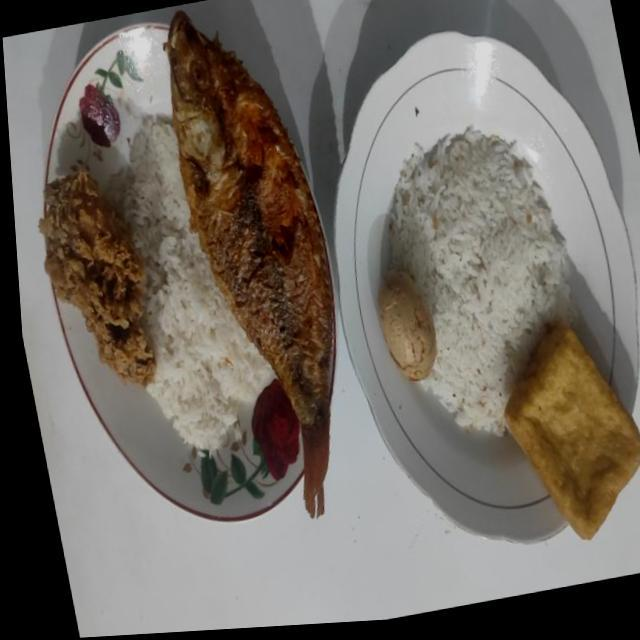ikan_mujair: (164, 11, 333, 516)
nasi_putih: (388, 127, 576, 435), (107, 116, 276, 450)
tahu_goreng: (504, 323, 640, 539)
